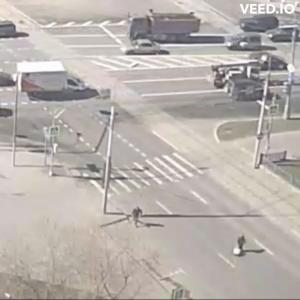car: (14, 60, 91, 100), (131, 7, 195, 42), (227, 32, 277, 52), (123, 41, 170, 58), (232, 80, 265, 102), (266, 26, 300, 44), (241, 16, 278, 32), (1, 18, 22, 42)
